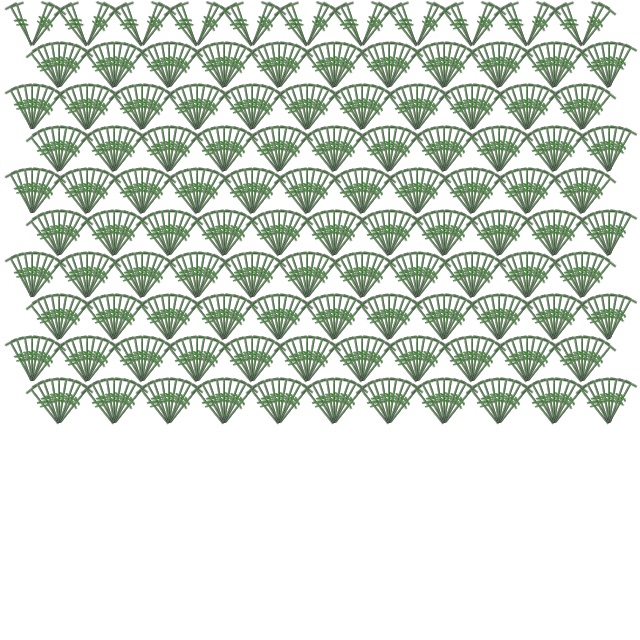fan: (26, 4, 69, 51), (52, 4, 95, 51), (81, 4, 124, 51), (107, 4, 150, 51), (136, 4, 179, 51), (162, 4, 205, 51), (191, 4, 234, 51), (217, 4, 260, 51), (246, 4, 289, 51), (272, 4, 315, 51), (301, 4, 344, 51), (327, 4, 370, 51), (356, 4, 399, 51), (382, 4, 425, 51), (411, 4, 454, 51), (437, 4, 480, 51), (466, 4, 509, 51), (492, 4, 535, 51), (521, 4, 564, 51), (547, 4, 590, 51), (576, 4, 619, 51), (24, 46, 67, 93), (53, 46, 96, 93), (79, 46, 122, 93), (108, 46, 151, 93), (134, 46, 177, 93), (163, 46, 206, 93), (189, 46, 232, 93), (218, 46, 261, 93), (244, 46, 287, 93), (273, 46, 316, 93), (299, 46, 342, 93), (328, 46, 371, 93), (354, 46, 397, 93), (383, 46, 426, 93), (409, 46, 452, 93), (438, 46, 481, 93), (464, 46, 507, 93), (493, 46, 536, 93), (519, 46, 562, 93), (548, 46, 591, 93), (574, 46, 617, 93), (26, 88, 69, 135), (52, 88, 95, 135), (81, 88, 124, 135), (107, 88, 150, 135), (136, 88, 179, 135), (162, 88, 205, 135), (191, 88, 234, 135), (217, 88, 260, 135), (246, 88, 289, 135), (272, 88, 315, 135), (301, 88, 344, 135), (327, 88, 370, 135), (356, 88, 399, 135), (382, 88, 425, 135), (411, 88, 454, 135), (437, 88, 480, 135), (466, 88, 509, 135), (492, 88, 535, 135), (521, 88, 564, 135), (547, 88, 590, 135), (576, 88, 619, 135), (24, 130, 67, 177), (53, 130, 96, 177), (79, 130, 122, 177), (108, 130, 151, 177), (134, 130, 177, 177), (163, 130, 206, 177), (189, 130, 232, 177), (218, 130, 261, 177), (244, 130, 287, 177), (273, 130, 316, 177), (299, 130, 342, 177), (328, 130, 371, 177), (354, 130, 397, 177), (383, 130, 426, 177), (409, 130, 452, 177), (438, 130, 481, 177), (464, 130, 507, 177), (493, 130, 536, 177), (519, 130, 562, 177), (548, 130, 591, 177), (574, 130, 617, 177), (26, 172, 69, 219), (52, 172, 95, 219), (81, 172, 124, 219), (107, 172, 150, 219), (136, 172, 179, 219), (162, 172, 205, 219), (191, 172, 234, 219), (217, 172, 260, 219), (246, 172, 289, 219), (272, 172, 315, 219), (301, 172, 344, 219), (327, 172, 370, 219), (356, 172, 399, 219), (382, 172, 425, 219), (411, 172, 454, 219), (437, 172, 480, 219), (466, 172, 509, 219), (492, 172, 535, 219), (521, 172, 564, 219), (547, 172, 590, 219), (576, 172, 619, 219), (24, 214, 67, 261), (53, 214, 96, 261), (79, 214, 122, 261), (108, 214, 151, 261), (134, 214, 177, 261), (163, 214, 206, 261), (189, 214, 232, 261), (218, 214, 261, 261), (244, 214, 287, 261), (273, 214, 316, 261), (299, 214, 342, 261), (328, 214, 371, 261), (354, 214, 397, 261), (383, 214, 426, 261), (409, 214, 452, 261), (438, 214, 481, 261), (464, 214, 507, 261), (493, 214, 536, 261), (519, 214, 562, 261), (548, 214, 591, 261), (574, 214, 617, 261), (26, 256, 69, 303), (52, 256, 95, 303), (81, 256, 124, 303), (107, 256, 150, 303), (136, 256, 179, 303), (162, 256, 205, 303), (191, 256, 234, 303), (217, 256, 260, 303), (246, 256, 289, 303), (272, 256, 315, 303), (301, 256, 344, 303), (327, 256, 370, 303), (356, 256, 399, 303), (382, 256, 425, 303), (411, 256, 454, 303), (437, 256, 480, 303), (466, 256, 509, 303), (492, 256, 535, 303), (521, 256, 564, 303), (547, 256, 590, 303), (576, 256, 619, 303), (24, 298, 67, 345), (53, 298, 96, 345), (79, 298, 122, 345), (108, 298, 151, 345), (134, 298, 177, 345), (163, 298, 206, 345), (189, 298, 232, 345), (218, 298, 261, 345), (244, 298, 287, 345), (273, 298, 316, 345), (299, 298, 342, 345), (328, 298, 371, 345), (354, 298, 397, 345), (383, 298, 426, 345), (409, 298, 452, 345), (438, 298, 481, 345), (464, 298, 507, 345), (493, 298, 536, 345), (519, 298, 562, 345), (548, 298, 591, 345), (574, 298, 617, 345), (26, 340, 69, 387), (52, 340, 95, 387), (81, 340, 124, 387), (107, 340, 150, 387), (136, 340, 179, 387), (162, 340, 205, 387), (191, 340, 234, 387), (217, 340, 260, 387), (246, 340, 289, 387), (272, 340, 315, 387), (301, 340, 344, 387), (327, 340, 370, 387), (356, 340, 399, 387), (382, 340, 425, 387), (411, 340, 454, 387), (437, 340, 480, 387), (466, 340, 509, 387), (492, 340, 535, 387), (521, 340, 564, 387), (547, 340, 590, 387), (576, 340, 619, 387), (24, 382, 67, 429), (53, 382, 96, 429), (79, 382, 122, 429), (108, 382, 151, 429), (134, 382, 177, 429), (163, 382, 206, 429), (189, 382, 232, 429), (218, 382, 261, 429), (244, 382, 287, 429), (273, 382, 316, 429), (299, 382, 342, 429), (328, 382, 371, 429), (354, 382, 397, 429), (383, 382, 426, 429), (409, 382, 452, 429), (438, 382, 481, 429), (464, 382, 507, 429), (493, 382, 536, 429), (519, 382, 562, 429), (548, 382, 591, 429), (574, 382, 617, 429), (3, 1, 40, 50), (26, 1, 63, 50), (58, 1, 95, 50), (81, 1, 118, 50), (113, 1, 150, 50), (136, 1, 173, 50), (168, 1, 205, 50), (191, 1, 228, 50), (223, 1, 260, 50), (246, 1, 283, 50), (278, 1, 315, 50), (301, 1, 338, 50), (333, 1, 370, 50), (356, 1, 393, 50), (388, 1, 425, 50), (411, 1, 448, 50), (443, 1, 480, 50), (466, 1, 503, 50), (498, 1, 535, 50), (521, 1, 558, 50), (553, 1, 590, 50), (576, 1, 613, 50), (30, 43, 67, 92), (53, 43, 90, 92), (85, 43, 122, 92), (108, 43, 145, 92), (140, 43, 177, 92), (163, 43, 200, 92), (195, 43, 232, 92), (218, 43, 255, 92), (250, 43, 287, 92), (273, 43, 310, 92), (305, 43, 342, 92), (328, 43, 365, 92), (360, 43, 397, 92), (383, 43, 420, 92), (415, 43, 452, 92), (438, 43, 475, 92), (470, 43, 507, 92), (493, 43, 530, 92), (525, 43, 562, 92), (548, 43, 585, 92), (580, 43, 617, 92), (603, 43, 640, 92), (3, 85, 40, 134), (26, 85, 63, 134), (58, 85, 95, 134), (81, 85, 118, 134), (113, 85, 150, 134), (136, 85, 173, 134), (168, 85, 205, 134), (191, 85, 228, 134), (223, 85, 260, 134), (246, 85, 283, 134), (278, 85, 315, 134), (301, 85, 338, 134), (333, 85, 370, 134), (356, 85, 393, 134), (388, 85, 425, 134), (411, 85, 448, 134), (443, 85, 480, 134), (466, 85, 503, 134), (498, 85, 535, 134), (521, 85, 558, 134), (553, 85, 590, 134), (576, 85, 613, 134), (30, 127, 67, 176), (53, 127, 90, 176), (85, 127, 122, 176), (108, 127, 145, 176), (140, 127, 177, 176), (163, 127, 200, 176), (195, 127, 232, 176), (218, 127, 255, 176), (250, 127, 287, 176), (273, 127, 310, 176), (305, 127, 342, 176), (328, 127, 365, 176), (360, 127, 397, 176), (383, 127, 420, 176), (415, 127, 452, 176), (438, 127, 475, 176), (470, 127, 507, 176), (493, 127, 530, 176), (525, 127, 562, 176), (548, 127, 585, 176), (580, 127, 617, 176), (603, 127, 640, 176), (3, 169, 40, 218), (26, 169, 63, 218), (58, 169, 95, 218), (81, 169, 118, 218), (113, 169, 150, 218), (136, 169, 173, 218), (168, 169, 205, 218), (191, 169, 228, 218), (223, 169, 260, 218), (246, 169, 283, 218), (278, 169, 315, 218), (301, 169, 338, 218), (333, 169, 370, 218), (356, 169, 393, 218), (388, 169, 425, 218), (411, 169, 448, 218), (443, 169, 480, 218), (466, 169, 503, 218), (498, 169, 535, 218), (521, 169, 558, 218), (553, 169, 590, 218), (576, 169, 613, 218), (30, 211, 67, 260), (53, 211, 90, 260), (85, 211, 122, 260), (108, 211, 145, 260), (140, 211, 177, 260), (163, 211, 200, 260), (195, 211, 232, 260), (218, 211, 255, 260), (250, 211, 287, 260), (273, 211, 310, 260), (305, 211, 342, 260), (328, 211, 365, 260), (360, 211, 397, 260), (383, 211, 420, 260), (415, 211, 452, 260), (438, 211, 475, 260), (470, 211, 507, 260), (493, 211, 530, 260), (525, 211, 562, 260), (548, 211, 585, 260), (580, 211, 617, 260), (603, 211, 640, 260), (3, 253, 40, 302), (26, 253, 63, 302), (58, 253, 95, 302), (81, 253, 118, 302), (113, 253, 150, 302), (136, 253, 173, 302), (168, 253, 205, 302), (191, 253, 228, 302), (223, 253, 260, 302), (246, 253, 283, 302), (278, 253, 315, 302), (301, 253, 338, 302), (333, 253, 370, 302), (356, 253, 393, 302), (388, 253, 425, 302), (411, 253, 448, 302), (443, 253, 480, 302), (466, 253, 503, 302), (498, 253, 535, 302), (521, 253, 558, 302), (553, 253, 590, 302), (576, 253, 613, 302), (30, 295, 67, 344), (53, 295, 90, 344), (85, 295, 122, 344), (108, 295, 145, 344), (140, 295, 177, 344), (163, 295, 200, 344), (195, 295, 232, 344), (218, 295, 255, 344), (250, 295, 287, 344), (273, 295, 310, 344), (305, 295, 342, 344), (328, 295, 365, 344), (360, 295, 397, 344), (383, 295, 420, 344), (415, 295, 452, 344), (438, 295, 475, 344), (470, 295, 507, 344), (493, 295, 530, 344), (525, 295, 562, 344), (548, 295, 585, 344), (580, 295, 617, 344), (603, 295, 640, 344), (3, 337, 40, 386), (26, 337, 63, 386), (58, 337, 95, 386), (81, 337, 118, 386), (113, 337, 150, 386), (136, 337, 173, 386), (168, 337, 205, 386), (191, 337, 228, 386), (223, 337, 260, 386), (246, 337, 283, 386), (278, 337, 315, 386), (301, 337, 338, 386), (333, 337, 370, 386), (356, 337, 393, 386), (388, 337, 425, 386), (411, 337, 448, 386), (443, 337, 480, 386), (466, 337, 503, 386), (498, 337, 535, 386), (521, 337, 558, 386), (553, 337, 590, 386), (576, 337, 613, 386), (30, 379, 67, 428), (53, 379, 90, 428), (85, 379, 122, 428), (108, 379, 145, 428), (140, 379, 177, 428), (163, 379, 200, 428), (195, 379, 232, 428), (218, 379, 255, 428), (250, 379, 287, 428), (273, 379, 310, 428), (305, 379, 342, 428), (328, 379, 365, 428), (360, 379, 397, 428), (383, 379, 420, 428), (415, 379, 452, 428), (438, 379, 475, 428), (470, 379, 507, 428), (493, 379, 530, 428), (525, 379, 562, 428), (548, 379, 585, 428), (580, 379, 617, 428), (603, 379, 640, 428), (36, 41, 68, 91), (52, 41, 84, 91), (91, 41, 123, 91), (107, 41, 139, 91), (146, 41, 178, 91), (162, 41, 194, 91), (201, 41, 233, 91), (217, 41, 249, 91), (256, 41, 288, 91), (272, 41, 304, 91), (311, 41, 343, 91), (327, 41, 359, 91), (366, 41, 398, 91), (382, 41, 414, 91), (421, 41, 453, 91), (437, 41, 469, 91), (476, 41, 508, 91), (492, 41, 524, 91), (531, 41, 563, 91), (547, 41, 579, 91), (586, 41, 618, 91), (602, 41, 634, 91), (9, 83, 41, 133), (25, 83, 57, 133), (64, 83, 96, 133), (80, 83, 112, 133), (119, 83, 151, 133), (135, 83, 167, 133), (174, 83, 206, 133), (190, 83, 222, 133), (229, 83, 261, 133), (245, 83, 277, 133), (284, 83, 316, 133), (300, 83, 332, 133), (339, 83, 371, 133), (355, 83, 387, 133), (394, 83, 426, 133), (410, 83, 442, 133), (449, 83, 481, 133), (465, 83, 497, 133), (504, 83, 536, 133), (520, 83, 552, 133), (559, 83, 591, 133), (575, 83, 607, 133), (36, 125, 68, 175), (52, 125, 84, 175), (91, 125, 123, 175), (107, 125, 139, 175), (146, 125, 178, 175), (162, 125, 194, 175), (201, 125, 233, 175), (217, 125, 249, 175), (256, 125, 288, 175), (272, 125, 304, 175), (311, 125, 343, 175), (327, 125, 359, 175), (366, 125, 398, 175), (382, 125, 414, 175), (421, 125, 453, 175), (437, 125, 469, 175), (476, 125, 508, 175), (492, 125, 524, 175), (531, 125, 563, 175), (547, 125, 579, 175), (586, 125, 618, 175), (602, 125, 634, 175), (9, 167, 41, 217), (25, 167, 57, 217), (64, 167, 96, 217), (80, 167, 112, 217), (119, 167, 151, 217), (135, 167, 167, 217), (174, 167, 206, 217), (190, 167, 222, 217), (229, 167, 261, 217), (245, 167, 277, 217), (284, 167, 316, 217), (300, 167, 332, 217), (339, 167, 371, 217), (355, 167, 387, 217), (394, 167, 426, 217), (410, 167, 442, 217), (449, 167, 481, 217), (465, 167, 497, 217), (504, 167, 536, 217), (520, 167, 552, 217), (559, 167, 591, 217), (575, 167, 607, 217), (36, 209, 68, 259), (52, 209, 84, 259), (91, 209, 123, 259), (107, 209, 139, 259), (146, 209, 178, 259), (162, 209, 194, 259), (201, 209, 233, 259), (217, 209, 249, 259), (256, 209, 288, 259), (272, 209, 304, 259), (311, 209, 343, 259), (327, 209, 359, 259), (366, 209, 398, 259), (382, 209, 414, 259), (421, 209, 453, 259), (437, 209, 469, 259), (476, 209, 508, 259), (492, 209, 524, 259), (531, 209, 563, 259), (547, 209, 579, 259), (586, 209, 618, 259), (602, 209, 634, 259), (9, 251, 41, 301), (25, 251, 57, 301), (64, 251, 96, 301), (80, 251, 112, 301), (119, 251, 151, 301), (135, 251, 167, 301), (174, 251, 206, 301), (190, 251, 222, 301), (229, 251, 261, 301), (245, 251, 277, 301), (284, 251, 316, 301), (300, 251, 332, 301), (339, 251, 371, 301), (355, 251, 387, 301), (394, 251, 426, 301), (410, 251, 442, 301), (449, 251, 481, 301), (465, 251, 497, 301), (504, 251, 536, 301), (520, 251, 552, 301), (559, 251, 591, 301), (575, 251, 607, 301), (36, 293, 68, 343), (52, 293, 84, 343), (91, 293, 123, 343), (107, 293, 139, 343), (146, 293, 178, 343), (162, 293, 194, 343), (201, 293, 233, 343), (217, 293, 249, 343), (256, 293, 288, 343), (272, 293, 304, 343), (311, 293, 343, 343), (327, 293, 359, 343), (366, 293, 398, 343), (382, 293, 414, 343), (421, 293, 453, 343), (437, 293, 469, 343), (476, 293, 508, 343), (492, 293, 524, 343), (531, 293, 563, 343), (547, 293, 579, 343), (586, 293, 618, 343), (602, 293, 634, 343), (9, 335, 41, 385), (25, 335, 57, 385), (64, 335, 96, 385), (80, 335, 112, 385), (119, 335, 151, 385), (135, 335, 167, 385), (174, 335, 206, 385), (190, 335, 222, 385), (229, 335, 261, 385), (245, 335, 277, 385), (284, 335, 316, 385), (300, 335, 332, 385), (339, 335, 371, 385), (355, 335, 387, 385), (394, 335, 426, 385), (410, 335, 442, 385), (449, 335, 481, 385), (465, 335, 497, 385), (504, 335, 536, 385), (520, 335, 552, 385), (559, 335, 591, 385), (575, 335, 607, 385), (36, 377, 68, 427), (52, 377, 84, 427), (91, 377, 123, 427), (107, 377, 139, 427), (146, 377, 178, 427), (162, 377, 194, 427), (201, 377, 233, 427), (217, 377, 249, 427), (256, 377, 288, 427), (272, 377, 304, 427), (311, 377, 343, 427), (327, 377, 359, 427), (366, 377, 398, 427), (382, 377, 414, 427), (421, 377, 453, 427), (437, 377, 469, 427), (476, 377, 508, 427), (492, 377, 524, 427), (531, 377, 563, 427), (547, 377, 579, 427), (586, 377, 618, 427), (602, 377, 634, 427), (9, 0, 41, 49), (25, 0, 57, 49), (64, 0, 96, 49), (80, 0, 112, 49), (119, 0, 151, 49), (135, 0, 167, 49), (174, 0, 206, 49), (190, 0, 222, 49), (229, 0, 261, 49), (245, 0, 277, 49), (284, 0, 316, 49), (300, 0, 332, 49), (339, 0, 371, 49), (355, 0, 387, 49), (394, 0, 426, 49), (410, 0, 442, 49), (449, 0, 481, 49), (465, 0, 497, 49), (504, 0, 536, 49), (520, 0, 552, 49), (559, 0, 591, 49), (575, 0, 607, 49), (44, 40, 68, 89), (52, 40, 76, 89), (99, 40, 123, 89), (107, 40, 131, 89), (154, 40, 178, 89), (162, 40, 186, 89), (209, 40, 233, 89), (217, 40, 241, 89), (264, 40, 288, 89), (272, 40, 296, 89), (319, 40, 343, 89), (327, 40, 351, 89), (374, 40, 398, 89), (382, 40, 406, 89), (429, 40, 453, 89), (437, 40, 461, 89), (484, 40, 508, 89), (492, 40, 516, 89), (539, 40, 563, 89), (547, 40, 571, 89), (594, 40, 618, 89), (602, 40, 626, 89), (17, 82, 41, 131), (25, 82, 49, 131), (72, 82, 96, 131), (80, 82, 104, 131), (127, 82, 151, 131), (135, 82, 159, 131), (182, 82, 206, 131), (190, 82, 214, 131), (237, 82, 261, 131), (245, 82, 269, 131), (292, 82, 316, 131), (300, 82, 324, 131), (347, 82, 371, 131), (355, 82, 379, 131), (402, 82, 426, 131), (410, 82, 434, 131), (457, 82, 481, 131), (465, 82, 489, 131), (512, 82, 536, 131), (520, 82, 544, 131), (567, 82, 591, 131), (575, 82, 599, 131), (44, 124, 68, 173), (52, 124, 76, 173), (99, 124, 123, 173), (107, 124, 131, 173), (154, 124, 178, 173), (162, 124, 186, 173), (209, 124, 233, 173), (217, 124, 241, 173), (264, 124, 288, 173), (272, 124, 296, 173), (319, 124, 343, 173), (327, 124, 351, 173), (374, 124, 398, 173), (382, 124, 406, 173), (429, 124, 453, 173), (437, 124, 461, 173), (484, 124, 508, 173), (492, 124, 516, 173), (539, 124, 563, 173), (547, 124, 571, 173), (594, 124, 618, 173), (602, 124, 626, 173), (17, 166, 41, 215), (25, 166, 49, 215), (72, 166, 96, 215), (80, 166, 104, 215), (127, 166, 151, 215), (135, 166, 159, 215), (182, 166, 206, 215), (190, 166, 214, 215), (237, 166, 261, 215), (245, 166, 269, 215), (292, 166, 316, 215), (300, 166, 324, 215), (347, 166, 371, 215), (355, 166, 379, 215), (402, 166, 426, 215), (410, 166, 434, 215), (457, 166, 481, 215), (465, 166, 489, 215), (512, 166, 536, 215), (520, 166, 544, 215), (567, 166, 591, 215), (575, 166, 599, 215), (44, 208, 68, 257), (52, 208, 76, 257), (99, 208, 123, 257), (107, 208, 131, 257), (154, 208, 178, 257), (162, 208, 186, 257), (209, 208, 233, 257), (217, 208, 241, 257), (264, 208, 288, 257), (272, 208, 296, 257), (319, 208, 343, 257), (327, 208, 351, 257), (374, 208, 398, 257), (382, 208, 406, 257), (429, 208, 453, 257), (437, 208, 461, 257), (484, 208, 508, 257), (492, 208, 516, 257), (539, 208, 563, 257), (547, 208, 571, 257), (594, 208, 618, 257), (602, 208, 626, 257), (17, 250, 41, 299), (25, 250, 49, 299), (72, 250, 96, 299), (80, 250, 104, 299), (127, 250, 151, 299), (135, 250, 159, 299), (182, 250, 206, 299), (190, 250, 214, 299), (237, 250, 261, 299), (245, 250, 269, 299), (292, 250, 316, 299), (300, 250, 324, 299), (347, 250, 371, 299), (355, 250, 379, 299), (402, 250, 426, 299), (410, 250, 434, 299), (457, 250, 481, 299), (465, 250, 489, 299), (512, 250, 536, 299), (520, 250, 544, 299), (567, 250, 591, 299), (575, 250, 599, 299), (44, 292, 68, 341), (52, 292, 76, 341), (99, 292, 123, 341), (107, 292, 131, 341), (154, 292, 178, 341), (162, 292, 186, 341), (209, 292, 233, 341), (217, 292, 241, 341), (264, 292, 288, 341), (272, 292, 296, 341), (319, 292, 343, 341), (327, 292, 351, 341), (374, 292, 398, 341), (382, 292, 406, 341), (429, 292, 453, 341), (437, 292, 461, 341), (484, 292, 508, 341), (492, 292, 516, 341), (539, 292, 563, 341), (547, 292, 571, 341), (594, 292, 618, 341), (602, 292, 626, 341), (17, 334, 41, 383), (25, 334, 49, 383), (72, 334, 96, 383), (80, 334, 104, 383), (127, 334, 151, 383), (135, 334, 159, 383), (182, 334, 206, 383), (190, 334, 214, 383), (237, 334, 261, 383), (245, 334, 269, 383), (292, 334, 316, 383), (300, 334, 324, 383), (347, 334, 371, 383), (355, 334, 379, 383), (402, 334, 426, 383), (410, 334, 434, 383), (457, 334, 481, 383), (465, 334, 489, 383), (512, 334, 536, 383), (520, 334, 544, 383), (567, 334, 591, 383), (575, 334, 599, 383), (44, 376, 68, 425), (52, 376, 76, 425), (99, 376, 123, 425), (107, 376, 131, 425), (154, 376, 178, 425), (162, 376, 186, 425), (209, 376, 233, 425), (217, 376, 241, 425), (264, 376, 288, 425), (272, 376, 296, 425), (319, 376, 343, 425), (327, 376, 351, 425), (374, 376, 398, 425), (382, 376, 406, 425), (429, 376, 453, 425), (437, 376, 461, 425), (484, 376, 508, 425), (492, 376, 516, 425), (539, 376, 563, 425), (547, 376, 571, 425), (594, 376, 618, 425), (602, 376, 626, 425), (106, 41, 124, 88), (216, 41, 234, 88), (326, 41, 344, 88), (436, 41, 454, 88), (546, 41, 564, 88), (24, 83, 42, 130), (134, 83, 152, 130), (244, 83, 262, 130), (354, 83, 372, 130), (464, 83, 482, 130), (574, 83, 592, 130), (106, 125, 124, 172), (216, 125, 234, 172), (326, 125, 344, 172), (436, 125, 454, 172), (546, 125, 564, 172), (24, 167, 42, 214), (134, 167, 152, 214), (244, 167, 262, 214), (354, 167, 372, 214), (464, 167, 482, 214), (574, 167, 592, 214), (106, 209, 124, 256), (216, 209, 234, 256), (326, 209, 344, 256), (436, 209, 454, 256), (546, 209, 564, 256), (24, 251, 42, 298), (134, 251, 152, 298), (244, 251, 262, 298), (354, 251, 372, 298), (464, 251, 482, 298), (574, 251, 592, 298), (106, 293, 124, 340), (216, 293, 234, 340), (326, 293, 344, 340), (436, 293, 454, 340), (546, 293, 564, 340), (24, 335, 42, 382), (134, 335, 152, 382), (244, 335, 262, 382), (354, 335, 372, 382), (464, 335, 482, 382), (574, 335, 592, 382), (106, 377, 124, 424), (216, 377, 234, 424), (326, 377, 344, 424), (436, 377, 454, 424), (546, 377, 564, 424), (52, 41, 68, 88), (162, 41, 178, 88), (272, 41, 288, 88), (382, 41, 398, 88), (492, 41, 508, 88), (602, 41, 618, 88), (80, 83, 96, 130), (190, 83, 206, 130), (300, 83, 316, 130), (410, 83, 426, 130), (520, 83, 536, 130), (52, 125, 68, 172), (162, 125, 178, 172), (272, 125, 288, 172), (382, 125, 398, 172), (492, 125, 508, 172), (602, 125, 618, 172), (80, 167, 96, 214), (190, 167, 206, 214), (300, 167, 316, 214), (410, 167, 426, 214), (520, 167, 536, 214), (52, 209, 68, 256), (162, 209, 178, 256), (272, 209, 288, 256), (382, 209, 398, 256), (492, 209, 508, 256), (602, 209, 618, 256), (80, 251, 96, 298), (190, 251, 206, 298), (300, 251, 316, 298), (410, 251, 426, 298), (520, 251, 536, 298), (52, 293, 68, 340), (162, 293, 178, 340), (272, 293, 288, 340), (382, 293, 398, 340), (492, 293, 508, 340), (602, 293, 618, 340), (80, 335, 96, 382), (190, 335, 206, 382), (300, 335, 316, 382), (410, 335, 426, 382), (520, 335, 536, 382), (52, 377, 68, 424), (162, 377, 178, 424), (272, 377, 288, 424), (382, 377, 398, 424), (492, 377, 508, 424), (602, 377, 618, 424)
